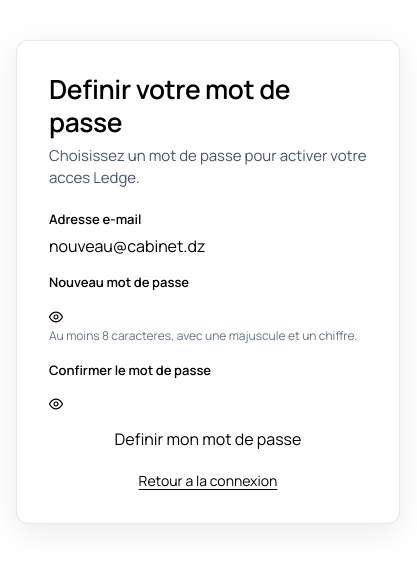
Test: DefinirMotDePassePage — lien valide › refuse la soumission si les deux mots de passe ne correspondent pas
Type "Abcd1234!" into the password field with id "reset-password" at (208, 310), box [49,299,367,321]
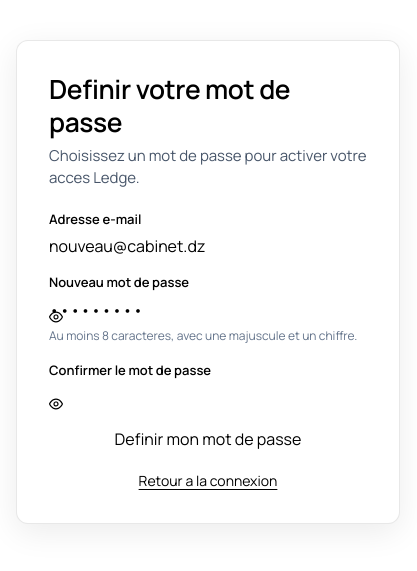
Type "Autre9999!" into the password field with id "reset-password-confirm" at (208, 397), box [49,386,367,408]
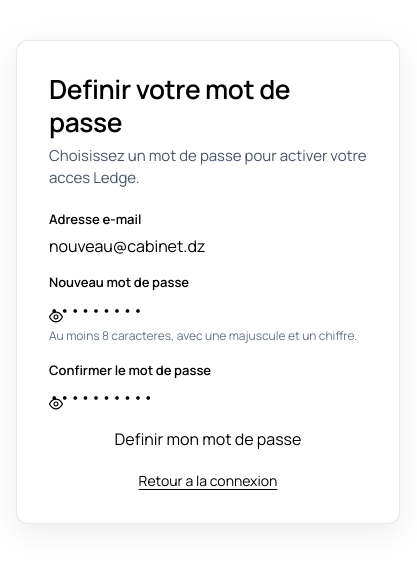
Submit the form, box [49,210,367,450]
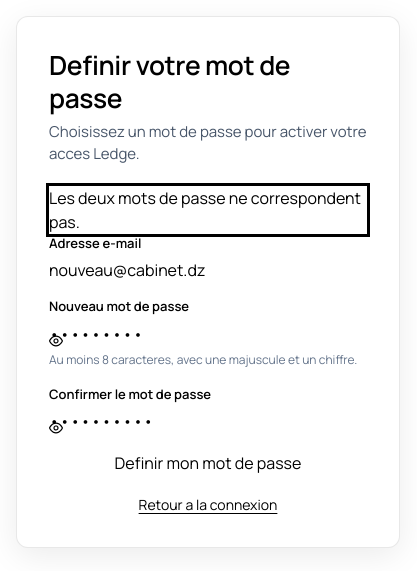
Check: the message "Les deux mots de passe ne correspondent pas." is shown, box [49,186,367,234]
